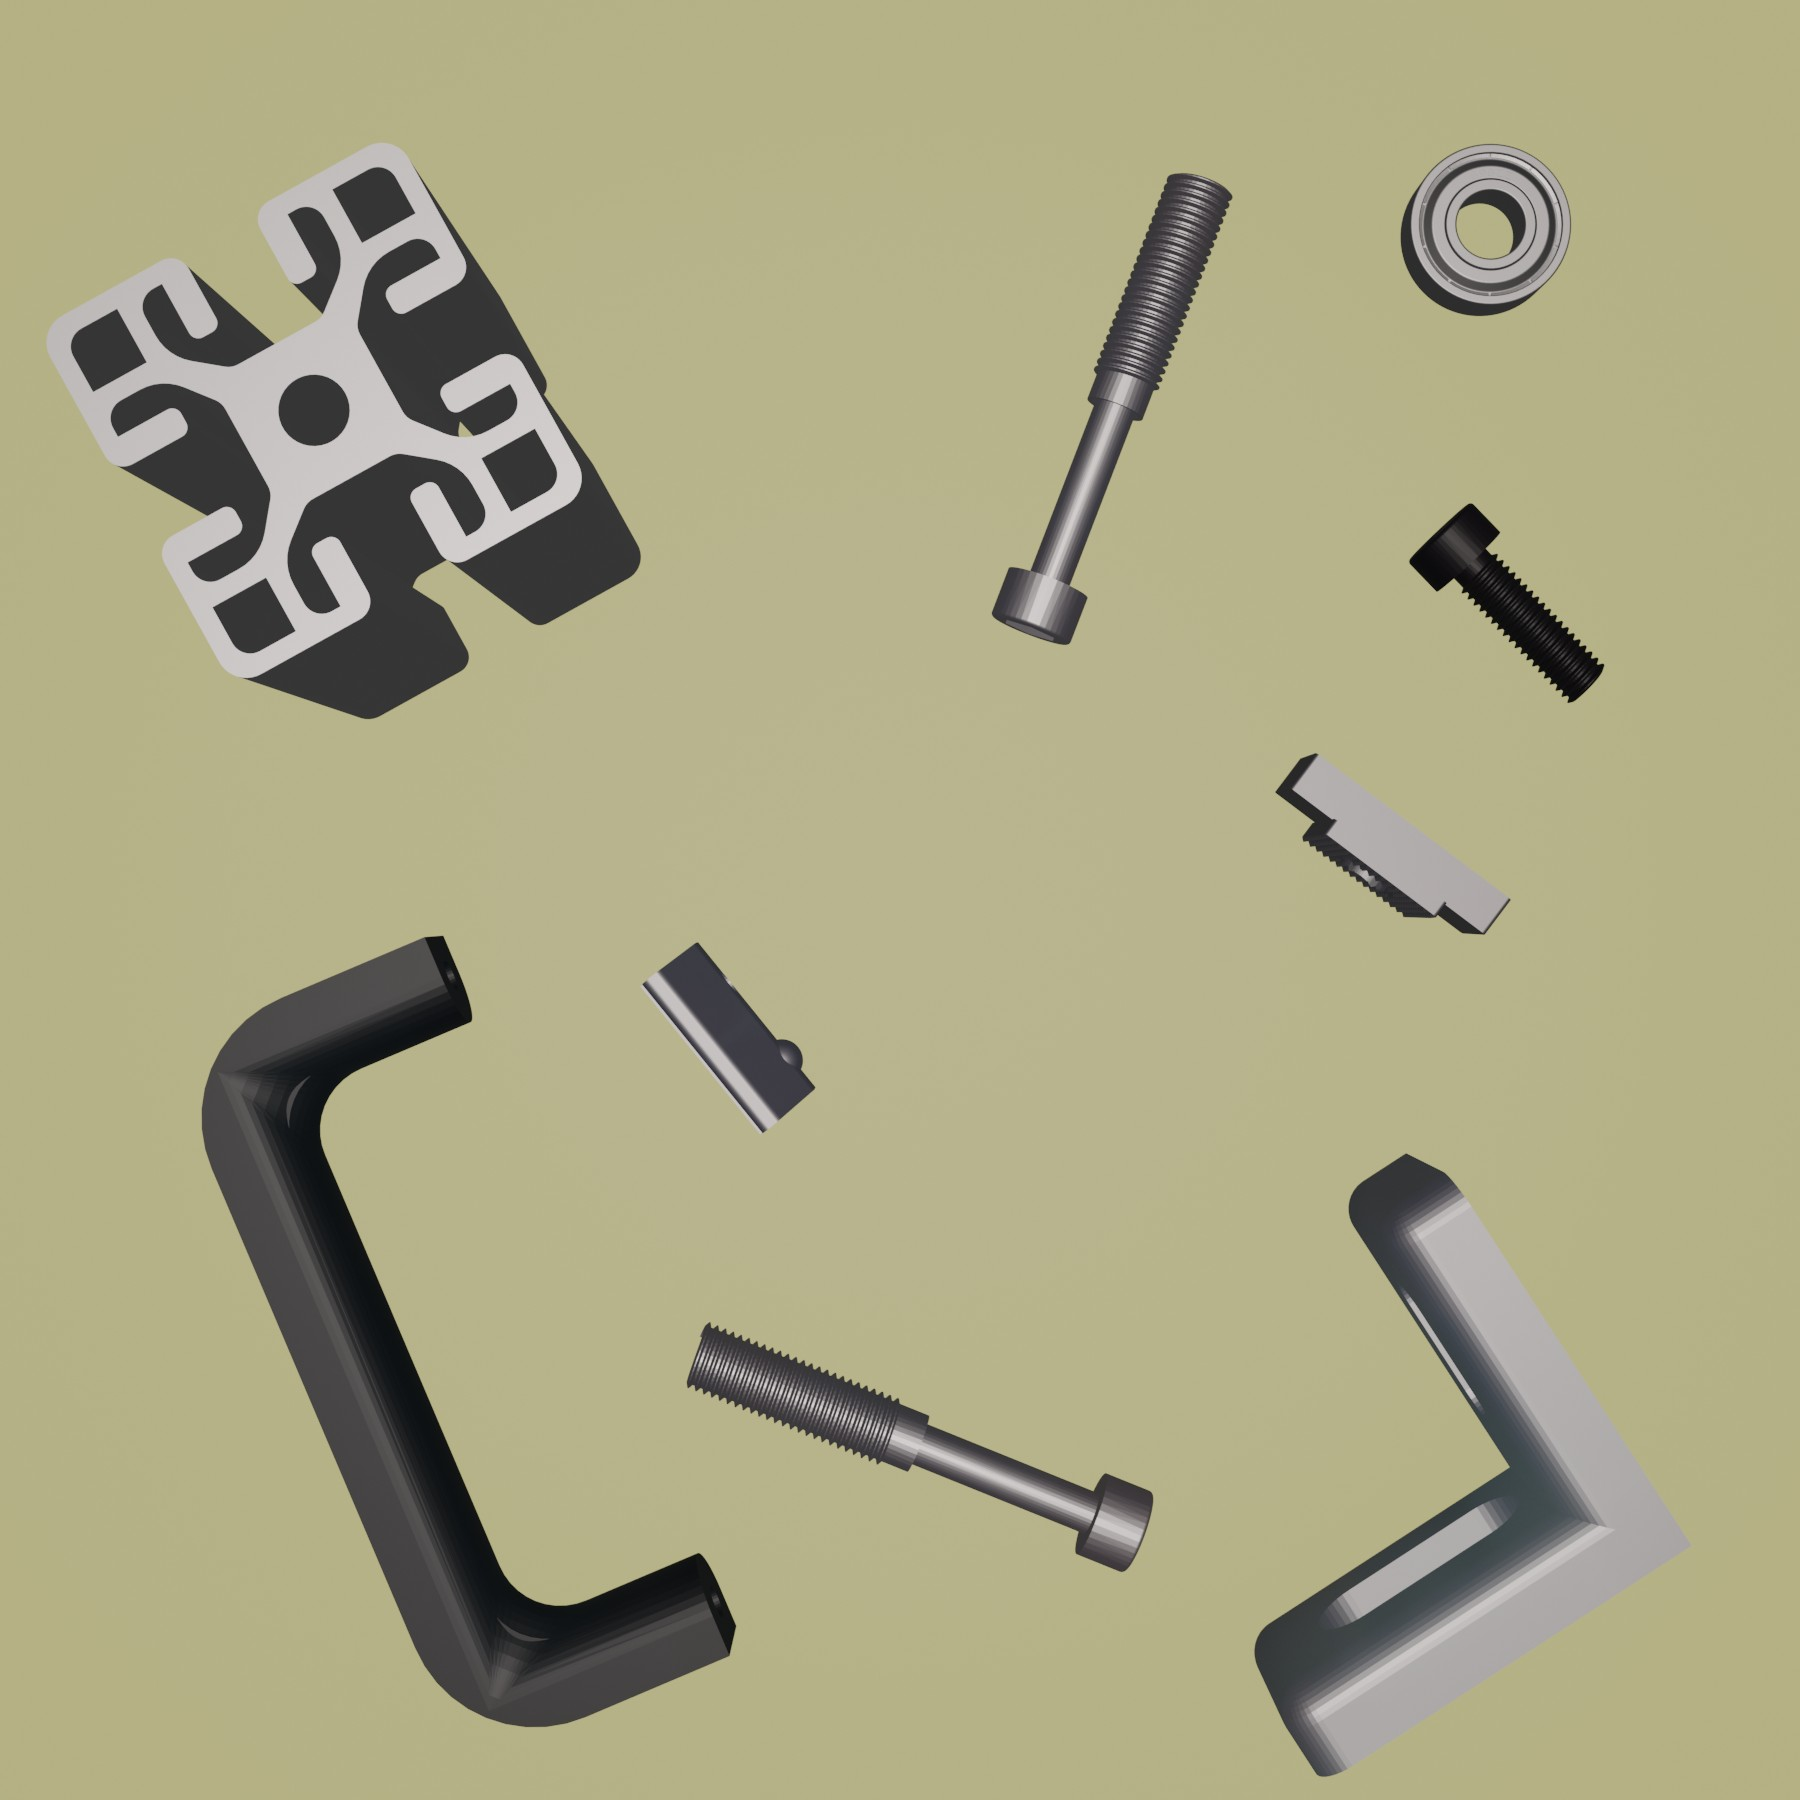Aluminium Extension: (45, 138, 643, 722)
Ball Bearing: (1398, 142, 1574, 318)
Multiwinkel: (1253, 1151, 1695, 1780)
Pull Handle: (198, 931, 740, 1731)
Shoulder Socket Head Cap Screw: (682, 1324, 1155, 1573), (991, 170, 1233, 649)
Socket Head Cap Screw: (1406, 501, 1605, 705)
T Nut Square: (1273, 752, 1515, 940)
T Spring Nut: (638, 940, 819, 1136)
